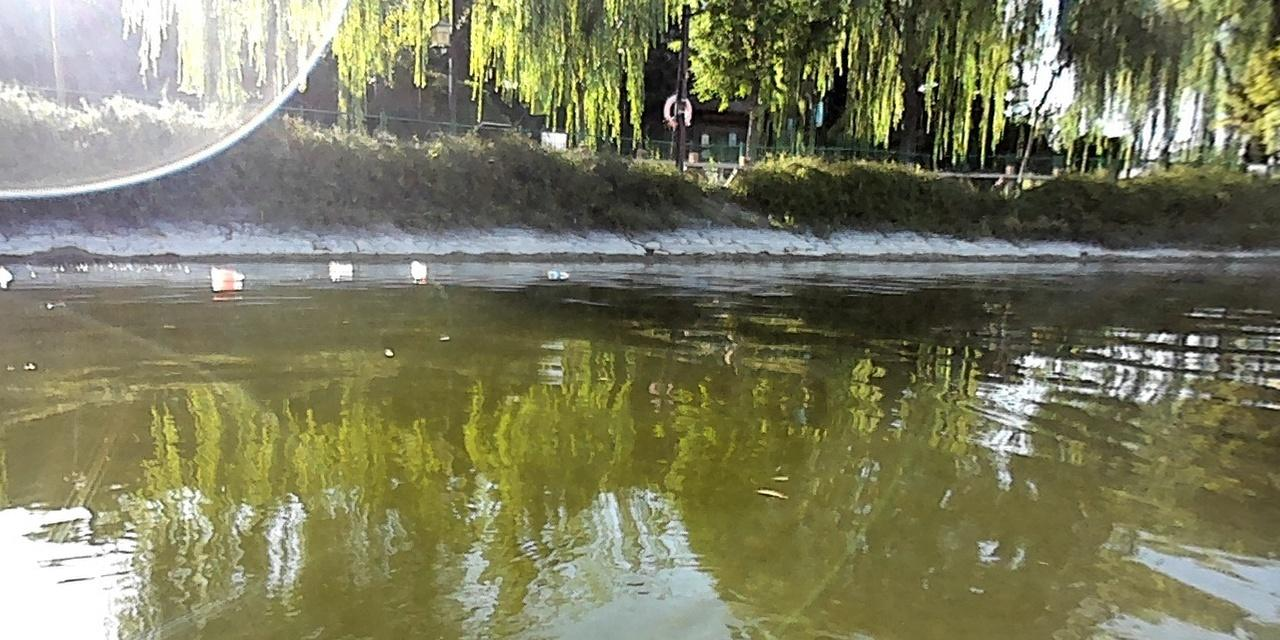bottle: (204, 263, 248, 282), (546, 265, 570, 279)
